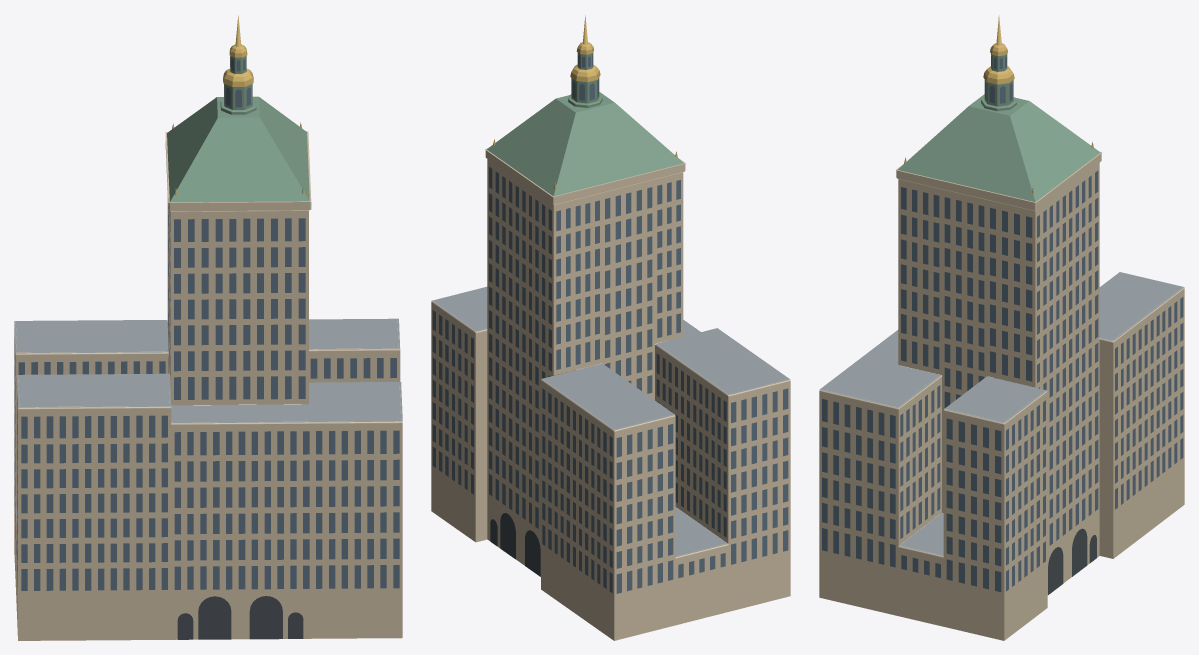
File: detail.glb
The picture shows the model from 3 angles, left to right: view 1: azimuth 30°, elevation 25°; view 2: azimuth 150°, elevation 25°; view 3: azimuth 270°, elevation 25°; orthographic projection. The views are drawn at different scales.
Parts seen in each view (by area): view 1: helmsley-building; view 2: helmsley-building; view 3: helmsley-building.
Part boxes in pixels (<box>): helmsley-building: <box>14,15,402,640</box>; helmsley-building: <box>431,15,790,640</box>; helmsley-building: <box>819,15,1184,640</box>.
Bounding box in the file's own units: 121 × 172 × 103.
